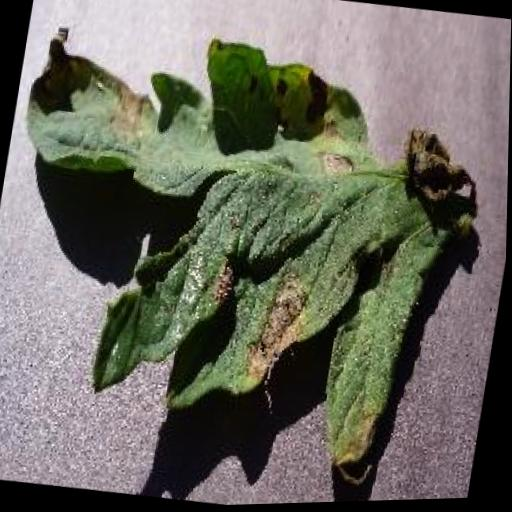Early Blight: (0, 5, 508, 500)
